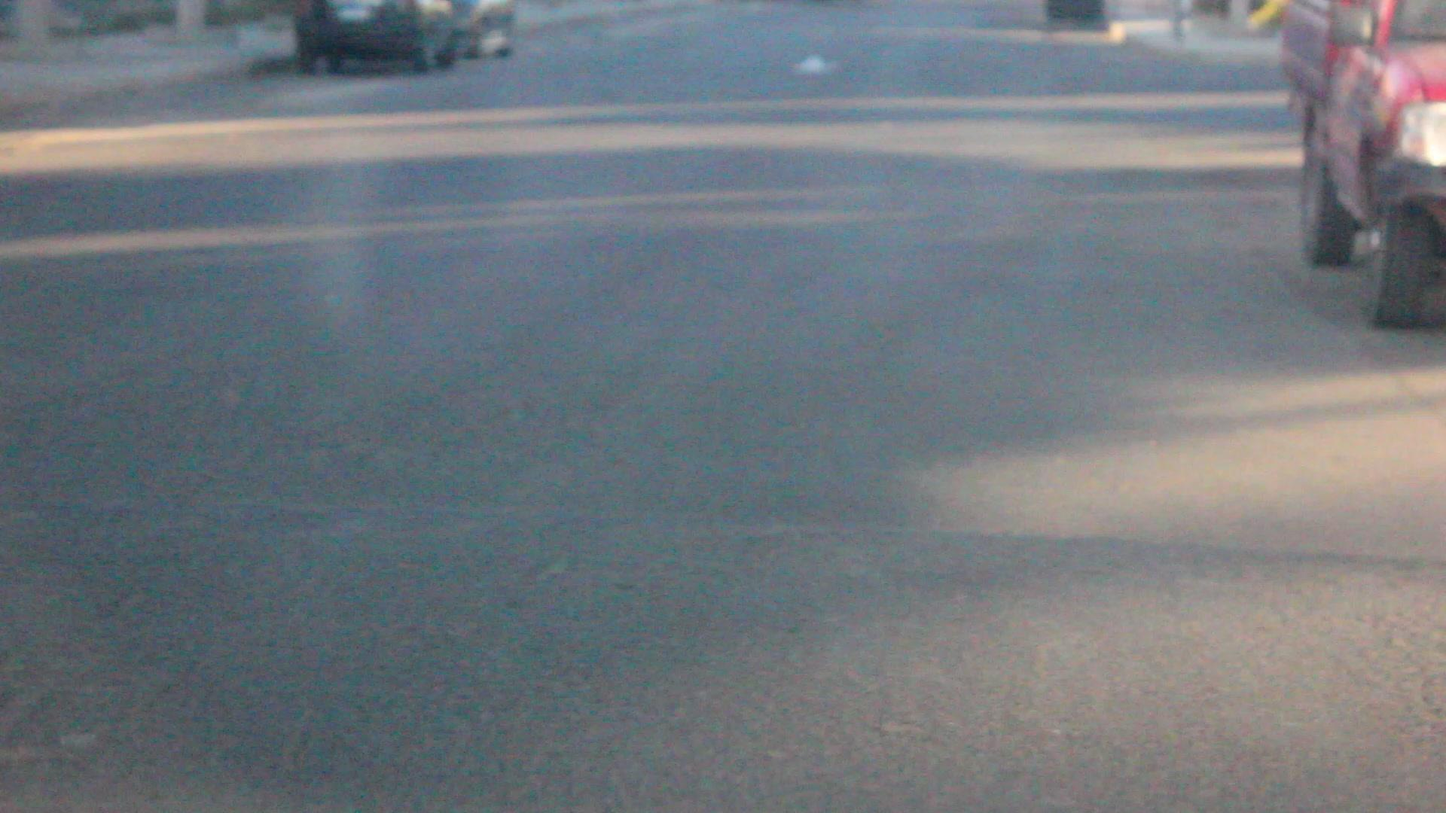Bump: (8, 510, 1446, 775)
